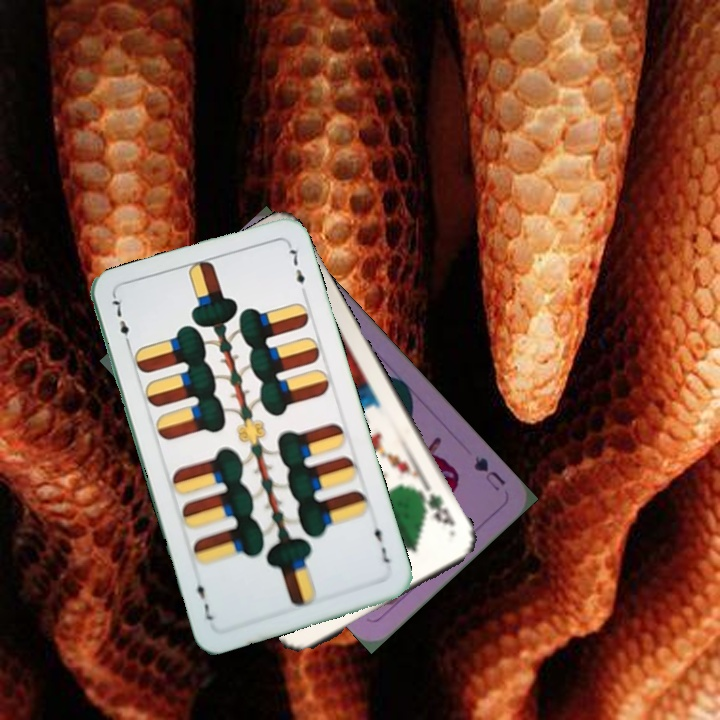E7: (108, 293, 134, 351), (369, 517, 392, 566)
GK: (418, 489, 458, 529)
GU: (469, 452, 509, 494)
